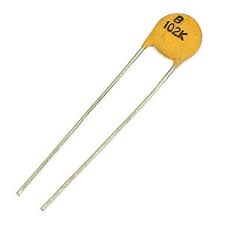ceramic capacitor: (115, 6, 217, 78)
